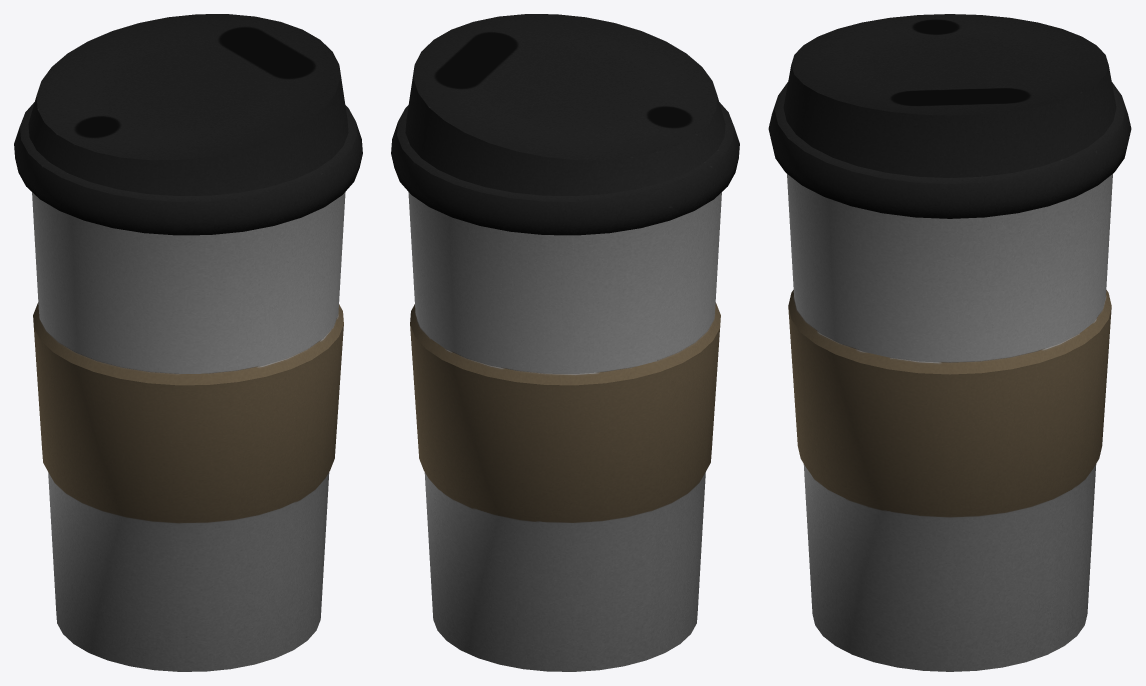
The model's file is coffee cup.fbx.
The picture shows the model from 3 angles, left to right: view 1: azimuth 30°, elevation 25°; view 2: azimuth 150°, elevation 25°; view 3: azimuth 270°, elevation 25°; orthographic projection. The views are drawn at different scales.
Parts seen in each view (by area): view 1: Cylinder.022; view 2: Cylinder.022; view 3: Cylinder.022.
Boxes of the visible parts, x1,y1,x2,y2 form: Cylinder.022: (14, 14, 362, 671); Cylinder.022: (391, 14, 739, 671); Cylinder.022: (768, 14, 1131, 671).
Size of the model in its own units: 26.52 by 45.53 by 26.52.
Materials: 1 (1 with a texture image).
